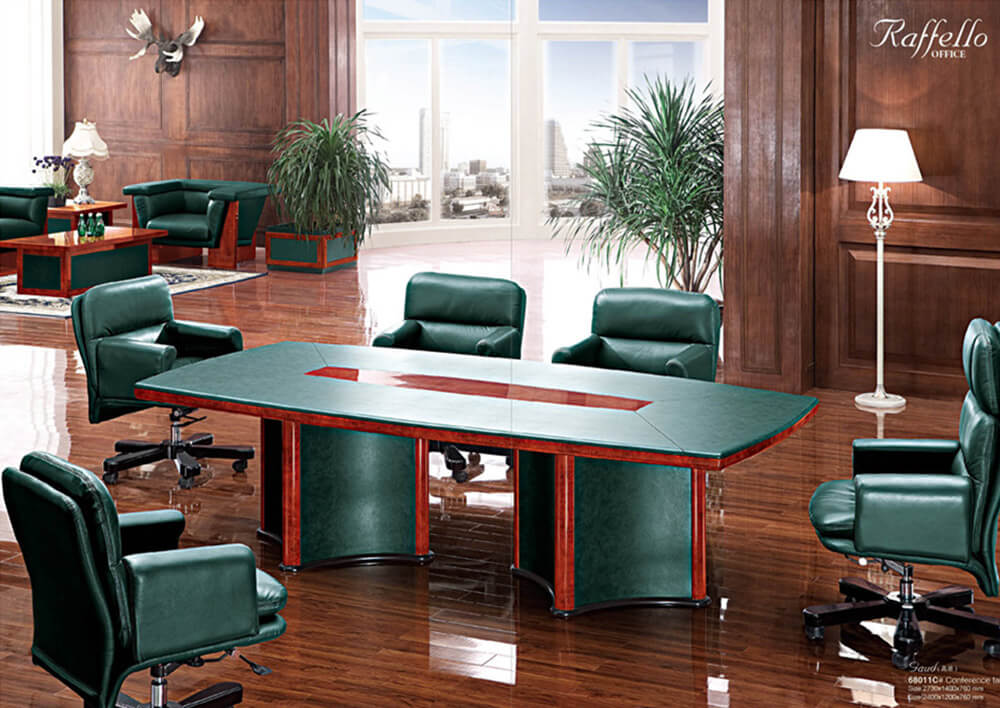conference_table: (136, 342, 820, 621)
